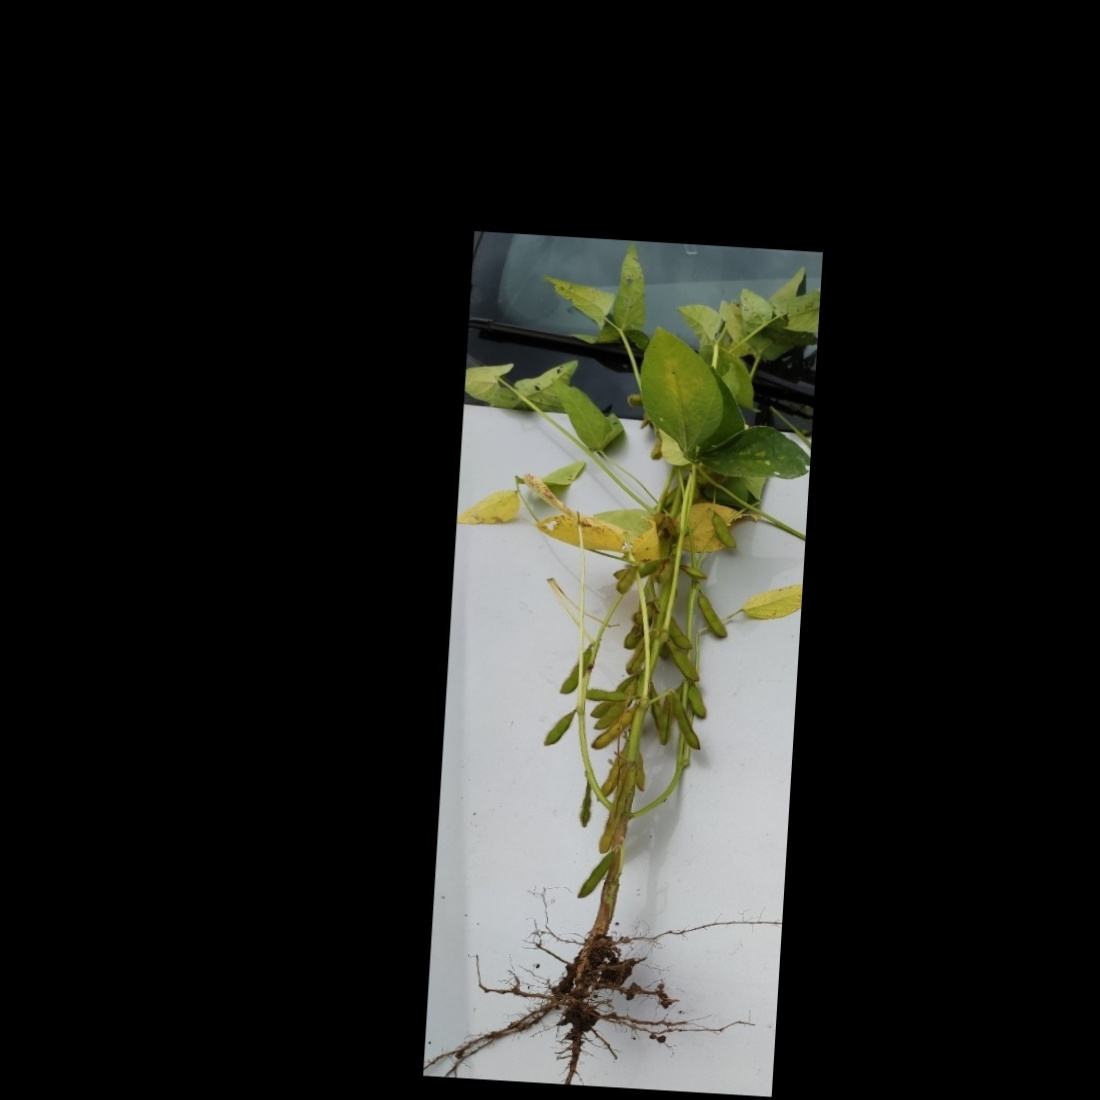pod: (667, 695, 705, 754), (575, 848, 613, 903), (589, 706, 633, 753), (541, 704, 580, 751), (557, 646, 591, 699), (664, 644, 705, 686), (694, 592, 728, 640), (707, 509, 742, 550), (687, 681, 710, 722)
soy: (479, 259, 789, 1056)
